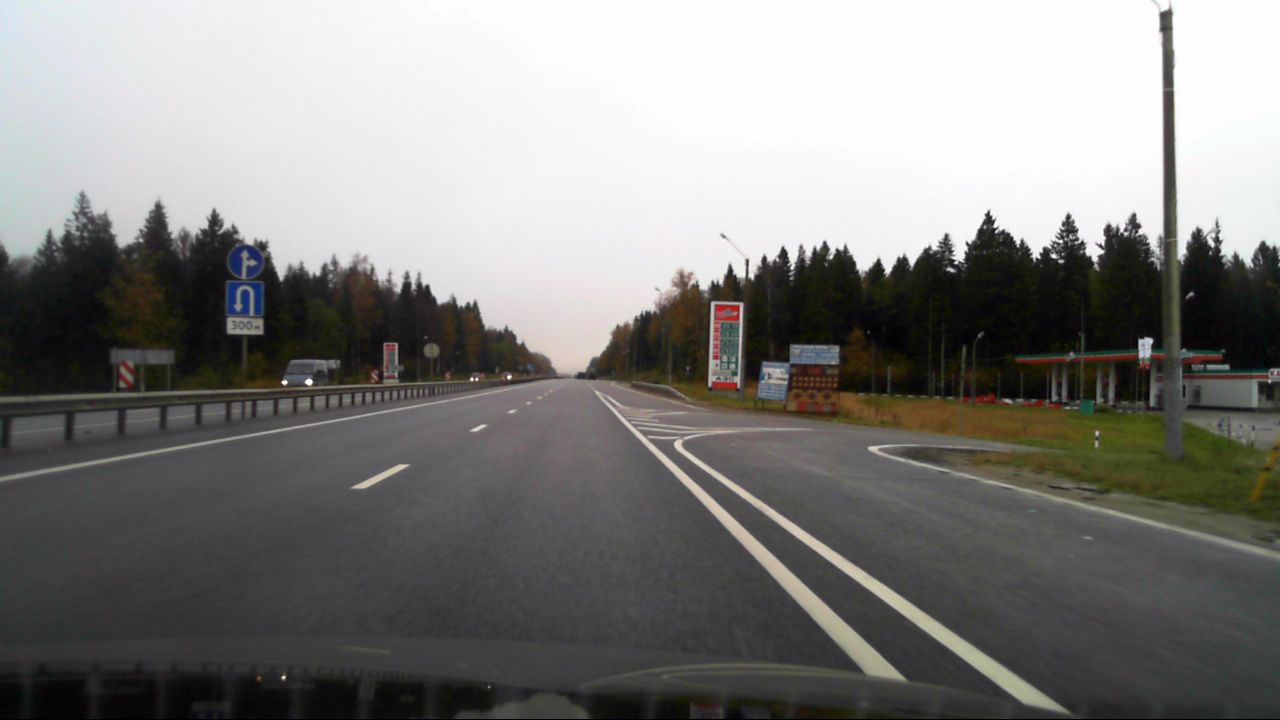U-turn: (226, 281, 263, 316)
